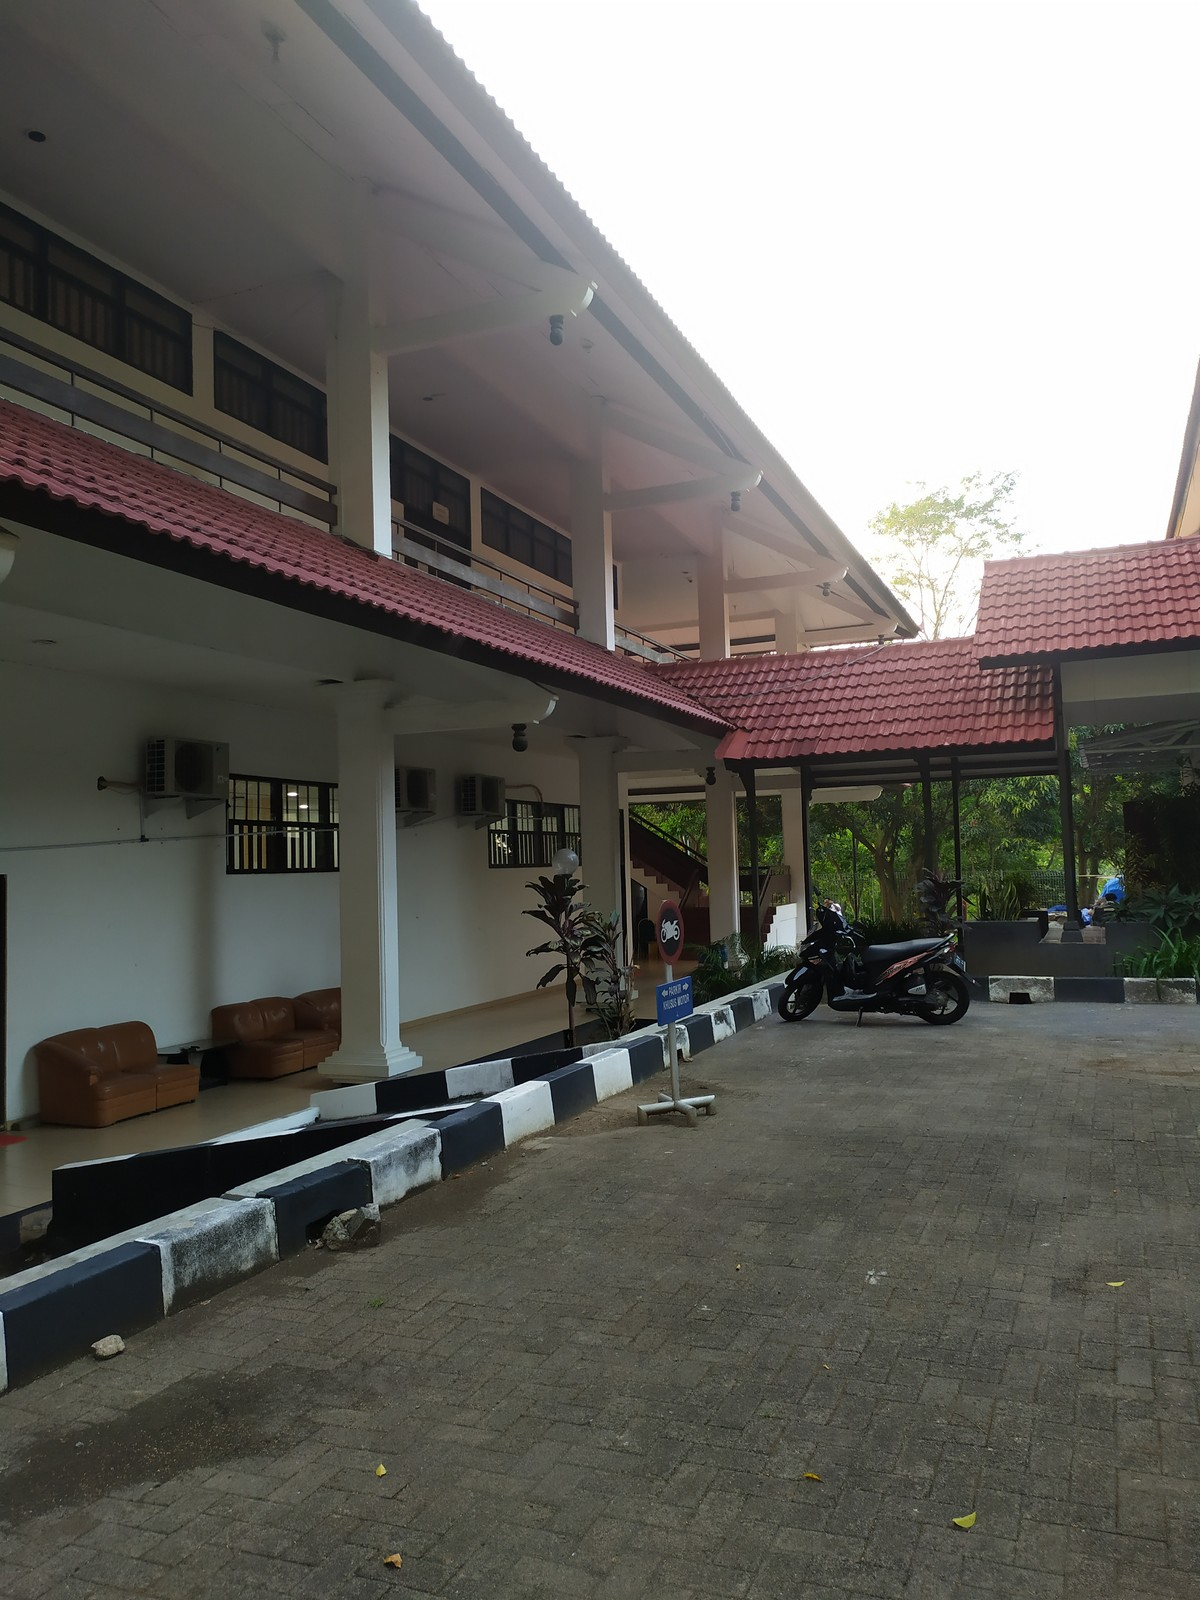concrete beam: (358, 296, 542, 363), (376, 690, 518, 746), (594, 474, 720, 517)
concrete column: (318, 262, 401, 567), (339, 682, 406, 1051), (575, 748, 637, 974), (570, 441, 623, 650)
